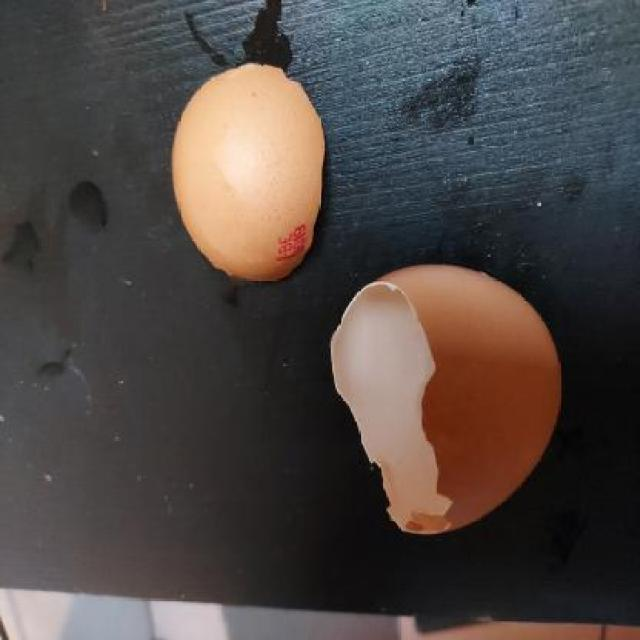biodegradable: (329, 260, 557, 537), (170, 66, 330, 289)
